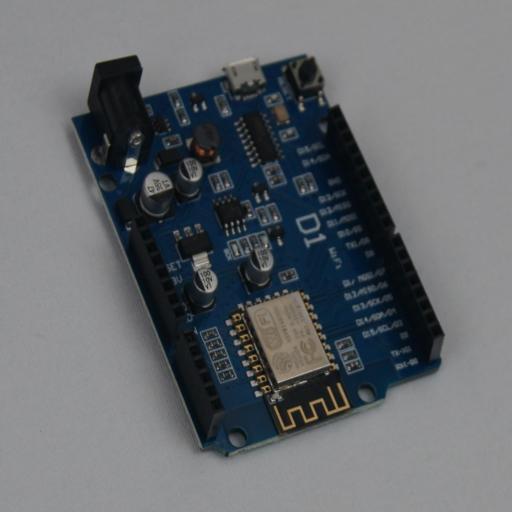Arduino Uno WiFi Shield: (71, 54, 445, 457)
